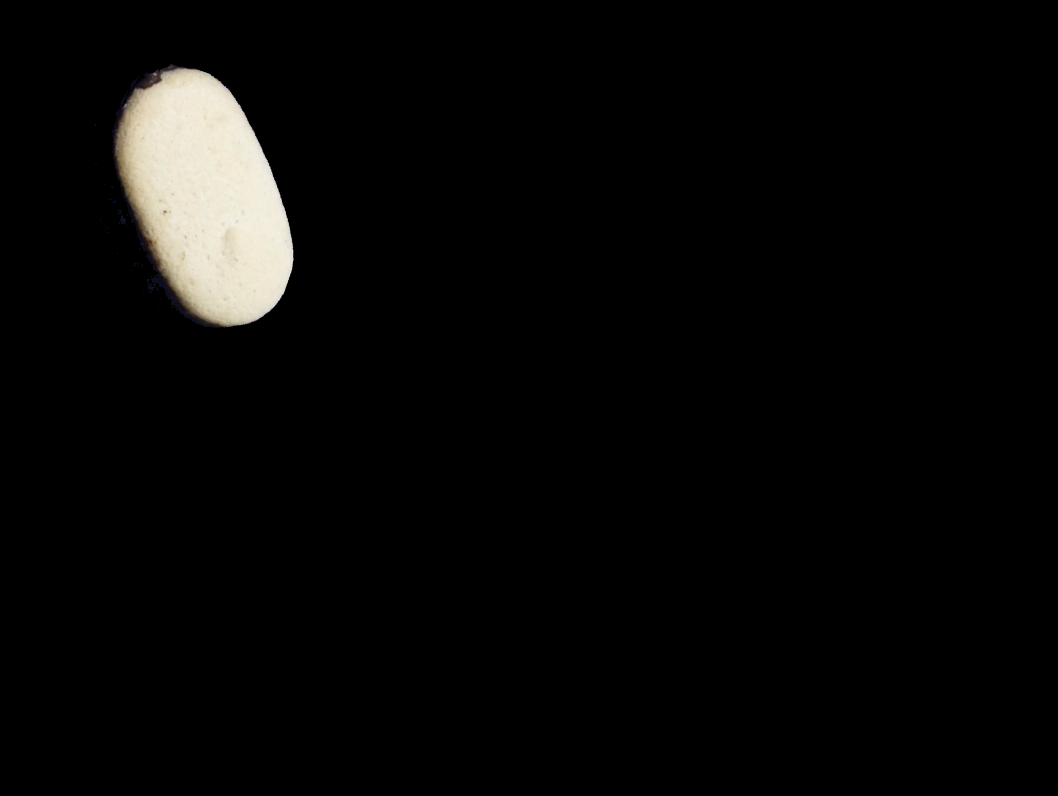test: (40, 40, 346, 352)
